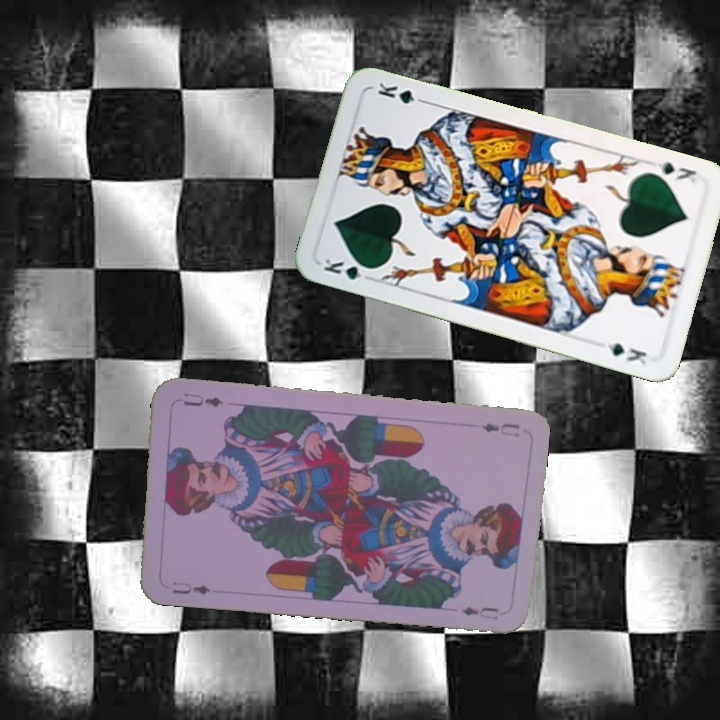EU: (478, 418, 522, 439), (168, 578, 213, 597)
GK: (319, 253, 377, 283), (654, 158, 699, 186)
